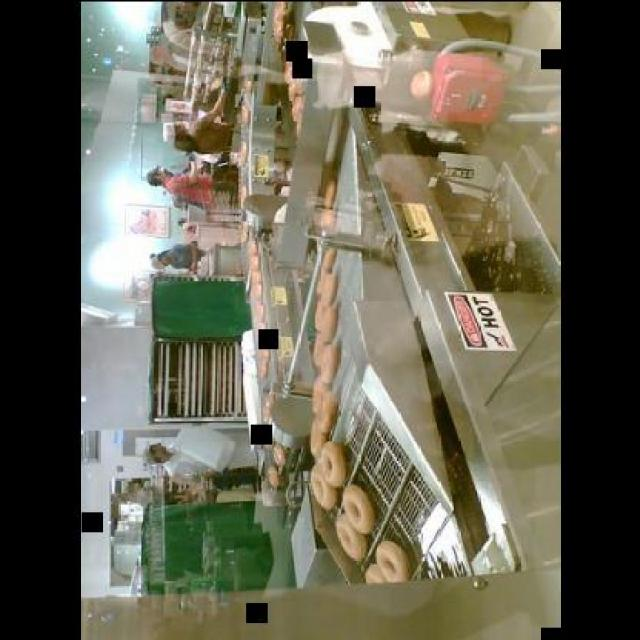unauthorized: (149, 238, 205, 274)
